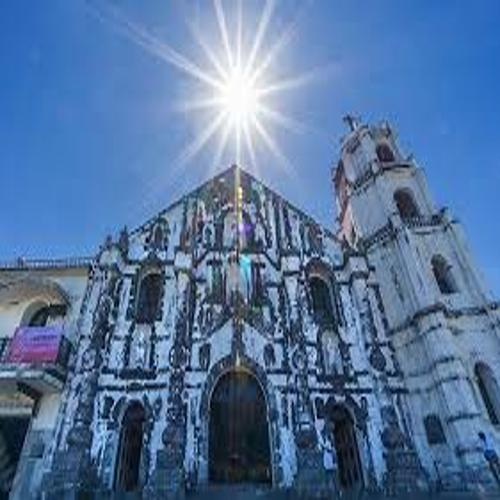Daraga Church: (76, 111, 500, 500)
